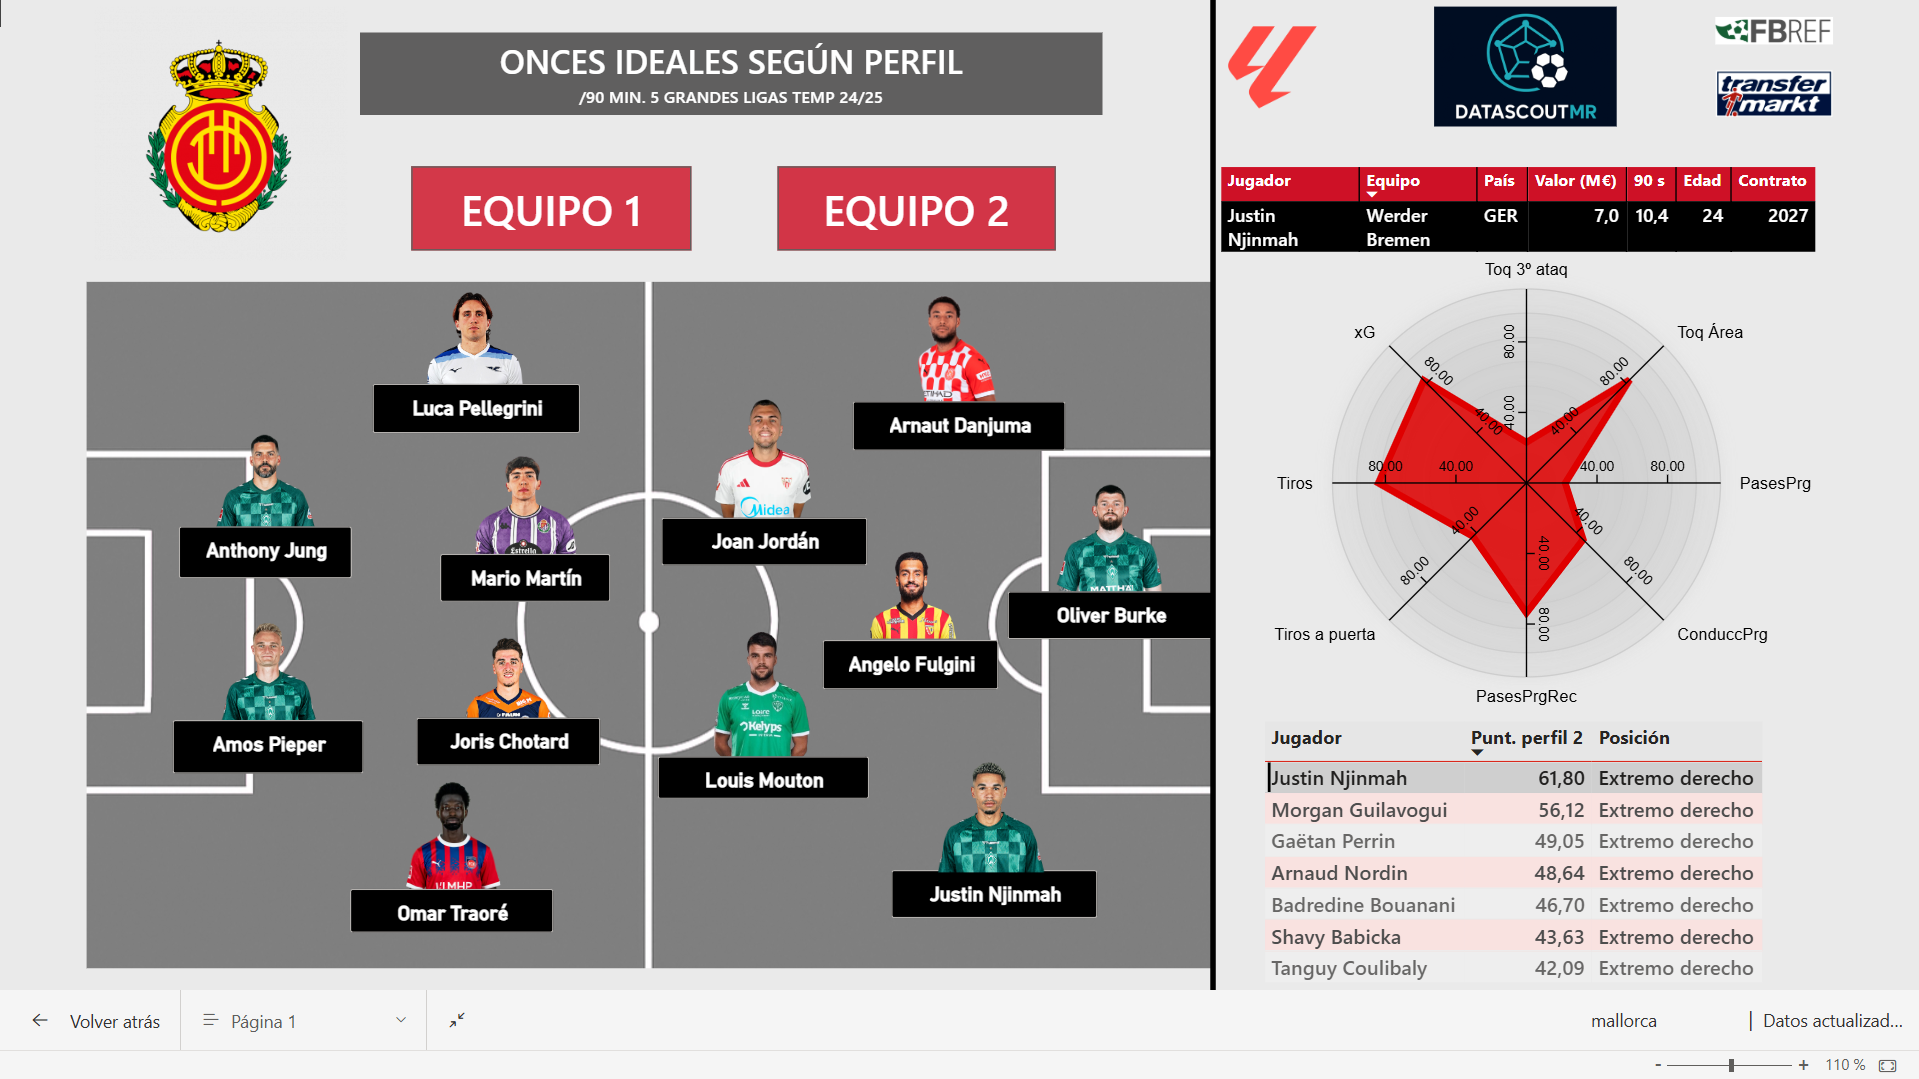

The dashboard page shown, as its layout file describes it:
{"tool":"powerbi","page":{"name":"Página 1","canvas":[1280,720],"ordinal":0},"visuals":[{"type":"group","id":"g1","title":"Grupo 5","box":[564.9,210.3,160,107.1],"z":0,"group":"g14"},{"type":"image","box":[587.9,210.3,115.3,86.7],"z":0,"group":"g1"},{"type":"group","id":"g2","title":"Grupo 2","box":[218.5,210.4,178.6,102.9],"z":0,"group":"g15"},{"type":"image","box":[250.2,210.4,118.6,81.4],"z":0,"group":"g2"},{"type":"group","id":"g3","title":"Grupo 8","box":[457.2,308.4,156.2,118.2],"z":0,"group":"g24"},{"type":"image","box":[477.6,308.4,114.1,96.8],"z":0,"group":"g3"},{"type":"group","id":"g4","title":"Grupo 6","box":[295,315.5,181.4,111.4],"z":0,"group":"g21"},{"type":"image","box":[340.6,315.5,100.7,87.4],"z":0,"group":"g4"},{"type":"image","box":[138.8,316.2,113.6,90.4],"z":0,"group":"g16"},{"type":"actionButton","box":[692.1,351.4,121.1,105.2],"z":0,"group":"g13"},{"type":"image","box":[696.3,355.6,122.9,95.2],"z":0,"group":"g10"},{"type":"group","id":"g5","title":"Grupo 10","box":[574.1,404.9,144.3,112.9],"z":0,"group":"g20"},{"type":"image","box":[597.6,404.9,94.3,92.9],"z":0,"group":"g5"},{"type":"group","id":"g6","title":"Grupo 9","box":[455.4,453.7,142.9,131.4],"z":0,"group":"g23"},{"type":"image","box":[464,453.7,125.7,131.4],"z":0,"group":"g6"},{"type":"group","id":"g7","title":"Grupo 4","box":[100,455.9,188.8,112.5],"z":0,"group":"g17"},{"type":"image","box":[109.5,455.9,167.7,90.9],"z":0,"group":"g7"},{"type":"group","id":"g8","title":"Grupo 7","box":[306.7,456.2,163.8,122.2],"z":0,"group":"g22"},{"type":"image","box":[341.3,456.2,88.4,105.8],"z":0,"group":"g8"},{"type":"cardVisual","fields":{"Data":["Min(ranking_piv_1.Jugador)"]},"box":[306.7,549.6,164.3,29.2],"z":0,"group":"g11"},{"type":"group","id":"g9","title":"Grupo 12","box":[573.4,556.8,142.9,108.6],"z":0,"group":"g19"},{"type":"image","box":[591.3,556.8,103.3,86.9],"z":0,"group":"g9"},{"type":"image","box":[237.6,557.5,90,97.1],"z":0,"group":"g12"},{"type":"actionButton","box":[218.4,561.9,133.3,101.5],"z":0,"group":"g18"},{"type":"actionButton","box":[240.7,209.8,128.4,101.5],"z":1000,"group":"g15"},{"type":"actionButton","box":[583.1,217.6,122.3,97.8],"z":1000,"group":"g14"},{"type":"advancedSlicerVisual","fields":{"Values":["jugadores_info.Jugador"]},"box":[402.2,230.9,86.9,24.8],"z":1000},{"type":"cardVisual","fields":{"Data":["Min(ranking_li_p1.Jugador)"]},"box":[218.5,280.4,178.6,32.9],"z":1000,"group":"g2"},{"type":"cardVisual","fields":{"Data":["Min(ranking_ext_izq_1 (1).Jugador)"]},"box":[564.9,286.8,160,30.6],"z":1000,"group":"g1"},{"type":"actionButton","box":[477.3,308.2,112.5,110.1],"z":1000,"group":"g24"},{"type":"actionButton","box":[305.8,310,151.6,114.9],"z":1000,"group":"g21"},{"type":"actionButton","box":[115.7,319.6,145,108.8],"z":1000,"group":"g16"},{"type":"group","id":"g10","title":"Grupo 11","box":[672.9,355.6,169.3,111.8],"z":1000,"group":"g13"},{"type":"cardVisual","fields":{"Data":["Min(ranking_mc_1 (1).Jugador)"]},"box":[457.2,396.6,156.2,30],"z":1000,"group":"g3"},{"type":"cardVisual","fields":{"Data":["Min(ranking_piv_1.Jugador)"]},"box":[295,398.1,181.4,28.9],"z":1000,"group":"g4"},{"type":"actionButton","box":[594.1,409.2,98.6,108.6],"z":1000,"group":"g20"},{"type":"cardVisual","fields":{"Data":["Min(ranking_dc_1.Jugador)"]},"box":[672.9,434,169.3,33.3],"z":1000,"group":"g10"},{"type":"actionButton","box":[126.2,463.5,136.2,105],"z":1000,"group":"g17"},{"type":"actionButton","box":[476.8,465.1,100,112.9],"z":1000,"group":"g23"},{"type":"actionButton","box":[324.6,469.1,120,97.1],"z":1000,"group":"g22"},{"type":"cardVisual","fields":{"Data":["Min(ranking_mco_1.Jugador)"]},"box":[574.1,485,143.9,33.6],"z":1000,"group":"g5"},{"type":"cardVisual","fields":{"Data":["Min(ranking_ct_1.Jugador)"]},"box":[100,538.4,188.8,30],"z":1000,"group":"g7"},{"type":"cardVisual","fields":{"Data":["Min(ranking_mc_1 (1).Jugador)"]},"box":[455.4,548,142.9,34.3],"z":1000,"group":"g6"},{"type":"group","id":"g11","title":"Grupo 1","box":[306.7,549.6,163.8,28.8],"z":1000,"group":"g8"},{"type":"actionButton","box":[580.6,553.3,117.5,112.5],"z":1000,"group":"g19"},{"type":"group","id":"g12","title":"Grupo 18","box":[198.8,557.5,168.8,111.3],"z":1000,"group":"g18"},{"type":"cardVisual","fields":{"Data":["Min(ranking_ext_der_1 (1).Jugador)"]},"box":[573.4,636.6,142.9,28.8],"z":1000,"group":"g9"},{"type":"cardVisual","fields":{"Data":["Min(ranking_ld_p1.Jugador)"]},"box":[198.8,640.2,168.6,28.6],"z":1000,"group":"g12"},{"type":"actionButton","box":[289,193.4,99.2,80],"z":2000},{"type":"cardVisual","fields":{"Data":["Min(ranking_ct_1.Jugador)"]},"box":[101.9,390.9,176.2,38.8],"z":2000,"group":"g16"},{"type":"cardVisual","fields":{"Data":["Min(ranking_ct_2.Jugador)"]},"box":[96.2,536.8,189.5,30.1],"z":3000},{"type":"actionButton","box":[76.9,410.9,90.1,77.4],"z":4000},{"type":"tableEx","fields":{"Values":["jugadores_info.Jugador","jugadores_info.Equipo","jugadores_info.País","jugadores_info.VM (M€) Jerarquía.VM (M€)","jugadores_info.90 s Jerarquía.90 s","jugadores_info.Edad Jerarquía.Edad","jugadores_info.Contrato Jerarquía.Contrato"]},"box":[825,117.5,455,68.8],"z":5000},{"type":"image","box":[827.1,8.6,80,81.4],"z":6000},{"type":"actionButton","box":[241.2,121.2,203.8,61.2],"z":7000},{"type":"actionButton","box":[507.5,121.2,202.5,61.2],"z":8000},{"type":"image","box":[0,188,830,532.1],"z":9000},{"type":"group","id":"g13","title":"Grupo 13","box":[672.9,351.4,170,115.7],"z":10000},{"type":"image","box":[0,0,204.3,194.3],"z":11000},{"type":"group","id":"g14","title":"Grupo 14","box":[564.9,210.3,160.2,108.8],"z":12000},{"type":"group","id":"g15","title":"Grupo 15","box":[218.5,209.8,178.7,104.3],"z":13000},{"type":"group","id":"g16","title":"Grupo 16","box":[101.9,316.2,176.2,113.4],"z":14000},{"type":"group","id":"g17","title":"Grupo 17","box":[100,455.9,188.8,112.6],"z":15000},{"type":"group","id":"g18","title":"Grupo 19","box":[198.8,557.5,168.8,111.2],"z":16000},{"type":"group","id":"g19","title":"Grupo 20","box":[573.4,553.3,141.8,112.9],"z":17000},{"type":"group","id":"g20","title":"Grupo 21","box":[574.1,404.9,144.6,112.8],"z":18000},{"type":"group","id":"g21","title":"Grupo 22","box":[295,310,180,116.2],"z":19000},{"type":"group","id":"g22","title":"Grupo 23","box":[306.7,456.2,163.8,122.2],"z":20000},{"type":"group","id":"g23","title":"Grupo 24","box":[455.4,453.7,143.7,133.3],"z":21000},{"type":"group","id":"g24","title":"Grupo 25","box":[457.2,308.2,155.8,117.8],"z":22000},{"type":"radarChart5F59D098BB90499F8C33EBEBCEE4FEBF","fields":{"category":["ranking_mco_1.Jugador"],"measure":["Sum(ranking_mco_1.AccDef_pct)","Sum(ranking_mco_1.Acciones creación tiros/90_pct)","Sum(ranking_mco_1.ConduccPrg_pct)","Sum(ranking_mco_1.PasesPrg_pct)","Sum(ranking_mco_1.PClave_pct)","Sum(ranking_mco_1.PasAreaPen_pct)","Sum(ranking_mco_1.Pas3ºAtaq_pct)","Sum(ranking_mco_1.Recuperaciones_pct)","Sum(ranking_mco_1.Tiros_pct)"]},"box":[830,182.5,416.2,372.5],"z":27000},{"type":"tableEx","fields":{"Values":["ranking_mco_1.Jugador","ranking_mco_1.Puntuación_perfil_MCO1","ranking_mco_1.PosicionEspecífica"]},"box":[838.7,519.1,441,201],"z":39000},{"type":"textbox","box":[203.8,23.8,540,60],"z":72000},{"type":"image","box":[980,0,142.9,97.1],"z":73000},{"type":"image","box":[1184.3,2.9,95.7,38.6],"z":74000},{"type":"image","box":[1184.3,41.4,95.7,52.9],"z":75000},{"type":"shape","box":[818.3,0,11.7,720],"z":76000}]}

Visuals, with their boxes on the page's 1280x720 design canvas (x1, y1, x2, y2). These are canvas units, not pixel positions in the 1919x1079 screenshot, which may show the page scaled, cropped or inside an application window:
"Grupo 5" group: {"x1": 565, "y1": 210, "x2": 725, "y2": 317}
image: {"x1": 588, "y1": 210, "x2": 703, "y2": 297}
"Grupo 2" group: {"x1": 218, "y1": 210, "x2": 397, "y2": 313}
image: {"x1": 250, "y1": 210, "x2": 369, "y2": 292}
"Grupo 8" group: {"x1": 457, "y1": 308, "x2": 613, "y2": 427}
image: {"x1": 478, "y1": 308, "x2": 592, "y2": 405}
"Grupo 6" group: {"x1": 295, "y1": 316, "x2": 476, "y2": 427}
image: {"x1": 341, "y1": 316, "x2": 441, "y2": 403}
image: {"x1": 139, "y1": 316, "x2": 252, "y2": 407}
actionButton: {"x1": 692, "y1": 351, "x2": 813, "y2": 457}
image: {"x1": 696, "y1": 356, "x2": 819, "y2": 451}
"Grupo 10" group: {"x1": 574, "y1": 405, "x2": 718, "y2": 518}
image: {"x1": 598, "y1": 405, "x2": 692, "y2": 498}
"Grupo 9" group: {"x1": 455, "y1": 454, "x2": 598, "y2": 585}
image: {"x1": 464, "y1": 454, "x2": 590, "y2": 585}
"Grupo 4" group: {"x1": 100, "y1": 456, "x2": 289, "y2": 568}
image: {"x1": 110, "y1": 456, "x2": 277, "y2": 547}
"Grupo 7" group: {"x1": 307, "y1": 456, "x2": 470, "y2": 578}
image: {"x1": 341, "y1": 456, "x2": 430, "y2": 562}
cardVisual - Min(ranking_piv_1.Jugador): {"x1": 307, "y1": 550, "x2": 471, "y2": 579}
"Grupo 12" group: {"x1": 573, "y1": 557, "x2": 716, "y2": 665}
image: {"x1": 591, "y1": 557, "x2": 695, "y2": 644}
image: {"x1": 238, "y1": 558, "x2": 328, "y2": 655}
actionButton: {"x1": 218, "y1": 562, "x2": 352, "y2": 663}
actionButton: {"x1": 241, "y1": 210, "x2": 369, "y2": 311}
actionButton: {"x1": 583, "y1": 218, "x2": 705, "y2": 315}
advancedSlicerVisual - jugadores_info.Jugador: {"x1": 402, "y1": 231, "x2": 489, "y2": 256}
cardVisual - Min(ranking_li_p1.Jugador): {"x1": 218, "y1": 280, "x2": 397, "y2": 313}
cardVisual - Min(ranking_ext_izq_1 (1).Jugador): {"x1": 565, "y1": 287, "x2": 725, "y2": 317}
actionButton: {"x1": 477, "y1": 308, "x2": 590, "y2": 418}
actionButton: {"x1": 306, "y1": 310, "x2": 457, "y2": 425}
actionButton: {"x1": 116, "y1": 320, "x2": 261, "y2": 428}
"Grupo 11" group: {"x1": 673, "y1": 356, "x2": 842, "y2": 467}
cardVisual - Min(ranking_mc_1 (1).Jugador): {"x1": 457, "y1": 397, "x2": 613, "y2": 427}
cardVisual - Min(ranking_piv_1.Jugador): {"x1": 295, "y1": 398, "x2": 476, "y2": 427}
actionButton: {"x1": 594, "y1": 409, "x2": 693, "y2": 518}
cardVisual - Min(ranking_dc_1.Jugador): {"x1": 673, "y1": 434, "x2": 842, "y2": 467}
actionButton: {"x1": 126, "y1": 464, "x2": 262, "y2": 568}
actionButton: {"x1": 477, "y1": 465, "x2": 577, "y2": 578}
actionButton: {"x1": 325, "y1": 469, "x2": 445, "y2": 566}
cardVisual - Min(ranking_mco_1.Jugador): {"x1": 574, "y1": 485, "x2": 718, "y2": 519}
cardVisual - Min(ranking_ct_1.Jugador): {"x1": 100, "y1": 538, "x2": 289, "y2": 568}
cardVisual - Min(ranking_mc_1 (1).Jugador): {"x1": 455, "y1": 548, "x2": 598, "y2": 582}
"Grupo 1" group: {"x1": 307, "y1": 550, "x2": 470, "y2": 578}
actionButton: {"x1": 581, "y1": 553, "x2": 698, "y2": 666}
"Grupo 18" group: {"x1": 199, "y1": 558, "x2": 368, "y2": 669}
cardVisual - Min(ranking_ext_der_1 (1).Jugador): {"x1": 573, "y1": 637, "x2": 716, "y2": 665}
cardVisual - Min(ranking_ld_p1.Jugador): {"x1": 199, "y1": 640, "x2": 367, "y2": 669}
actionButton: {"x1": 289, "y1": 193, "x2": 388, "y2": 273}
cardVisual - Min(ranking_ct_1.Jugador): {"x1": 102, "y1": 391, "x2": 278, "y2": 430}
cardVisual - Min(ranking_ct_2.Jugador): {"x1": 96, "y1": 537, "x2": 286, "y2": 567}
actionButton: {"x1": 77, "y1": 411, "x2": 167, "y2": 488}
tableEx - jugadores_info.Jugador x jugadores_info.Equipo: {"x1": 825, "y1": 118, "x2": 1280, "y2": 186}
image: {"x1": 827, "y1": 9, "x2": 907, "y2": 90}
actionButton: {"x1": 241, "y1": 121, "x2": 445, "y2": 182}
actionButton: {"x1": 508, "y1": 121, "x2": 710, "y2": 182}
image: {"x1": 0, "y1": 188, "x2": 830, "y2": 720}
"Grupo 13" group: {"x1": 673, "y1": 351, "x2": 843, "y2": 467}
image: {"x1": 0, "y1": 0, "x2": 204, "y2": 194}
"Grupo 14" group: {"x1": 565, "y1": 210, "x2": 725, "y2": 319}
"Grupo 15" group: {"x1": 218, "y1": 210, "x2": 397, "y2": 314}
"Grupo 16" group: {"x1": 102, "y1": 316, "x2": 278, "y2": 430}
"Grupo 17" group: {"x1": 100, "y1": 456, "x2": 289, "y2": 568}
"Grupo 19" group: {"x1": 199, "y1": 558, "x2": 368, "y2": 669}
"Grupo 20" group: {"x1": 573, "y1": 553, "x2": 715, "y2": 666}
"Grupo 21" group: {"x1": 574, "y1": 405, "x2": 719, "y2": 518}
"Grupo 22" group: {"x1": 295, "y1": 310, "x2": 475, "y2": 426}
"Grupo 23" group: {"x1": 307, "y1": 456, "x2": 470, "y2": 578}
"Grupo 24" group: {"x1": 455, "y1": 454, "x2": 599, "y2": 587}
"Grupo 25" group: {"x1": 457, "y1": 308, "x2": 613, "y2": 426}
radarChart5F59D098BB90499F8C33EBEBCEE4FEBF - ranking_mco_1.Jugador x Sum(ranking_mco_1.AccDef_pct): {"x1": 830, "y1": 182, "x2": 1246, "y2": 555}
tableEx - ranking_mco_1.Jugador x ranking_mco_1.Puntuación_perfil_MCO1: {"x1": 839, "y1": 519, "x2": 1280, "y2": 720}
textbox: {"x1": 204, "y1": 24, "x2": 744, "y2": 84}
image: {"x1": 980, "y1": 0, "x2": 1123, "y2": 97}
image: {"x1": 1184, "y1": 3, "x2": 1280, "y2": 42}
image: {"x1": 1184, "y1": 41, "x2": 1280, "y2": 94}
shape: {"x1": 818, "y1": 0, "x2": 830, "y2": 720}
